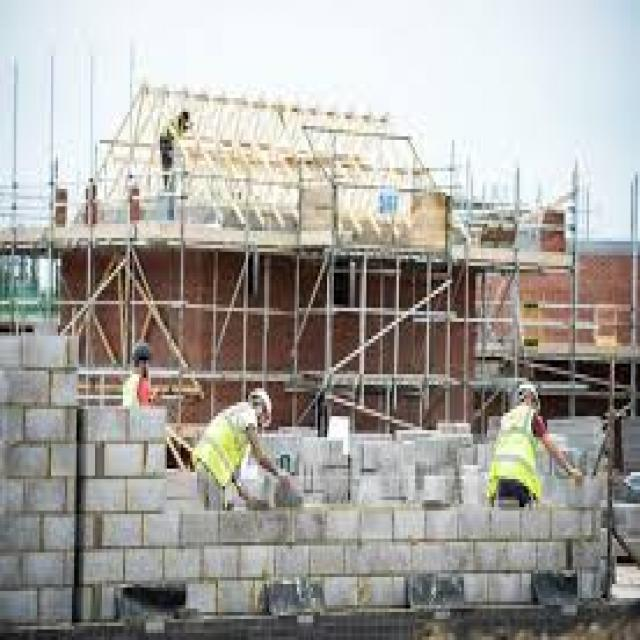Reflective-Jacket: (186, 399, 262, 500), (480, 406, 552, 507)
Safety-Helmet: (503, 374, 547, 416), (246, 381, 278, 430), (128, 336, 156, 374)
